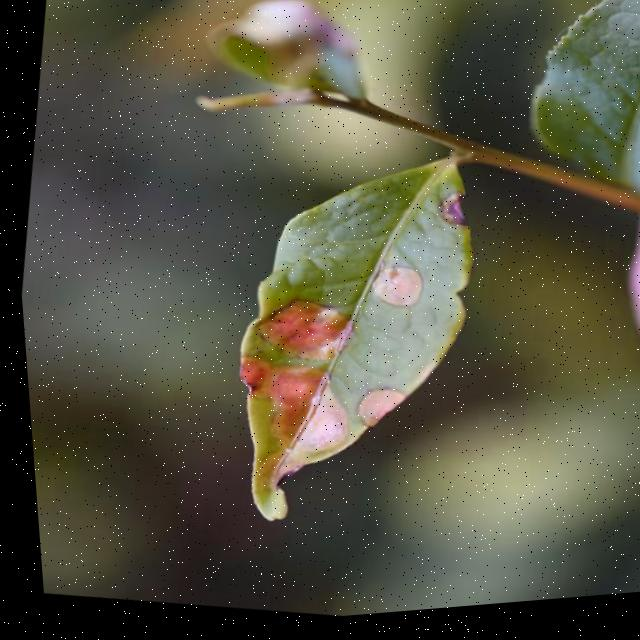Tea cake: (231, 273, 352, 383), (254, 367, 347, 461), (356, 256, 430, 321), (339, 377, 404, 441), (209, 347, 274, 407), (420, 186, 466, 230)
